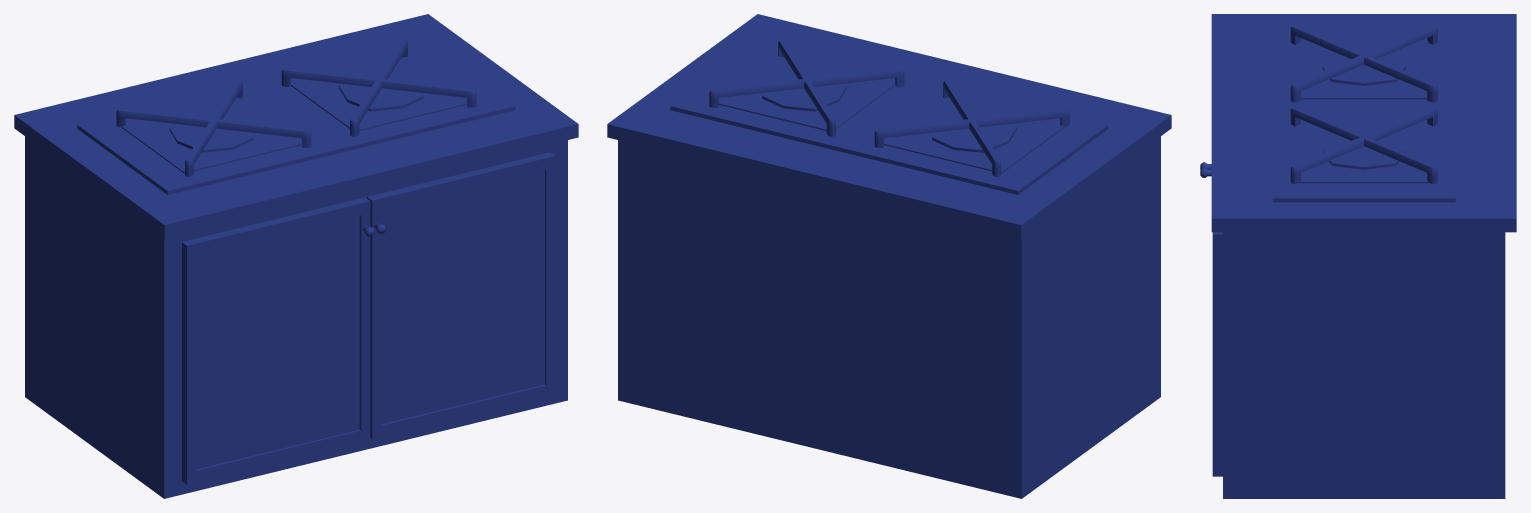
File: fogao.fbx
The picture shows the model from 3 angles, left to right: view 1: azimuth 30°, elevation 25°; view 2: azimuth 150°, elevation 25°; view 3: azimuth 270°, elevation 25°; orthographic projection.
Parts seen in each view (by area): view 1: Fogão; view 2: Fogão; view 3: Fogão.
Part boxes in pixels (x1=…): Fogão: x1=14, y1=14, x2=578, y2=498; Fogão: x1=607, y1=14, x2=1171, y2=498; Fogão: x1=1200, y1=14, x2=1516, y2=498.
Size of the model in its own units: 326 by 225 by 213.
